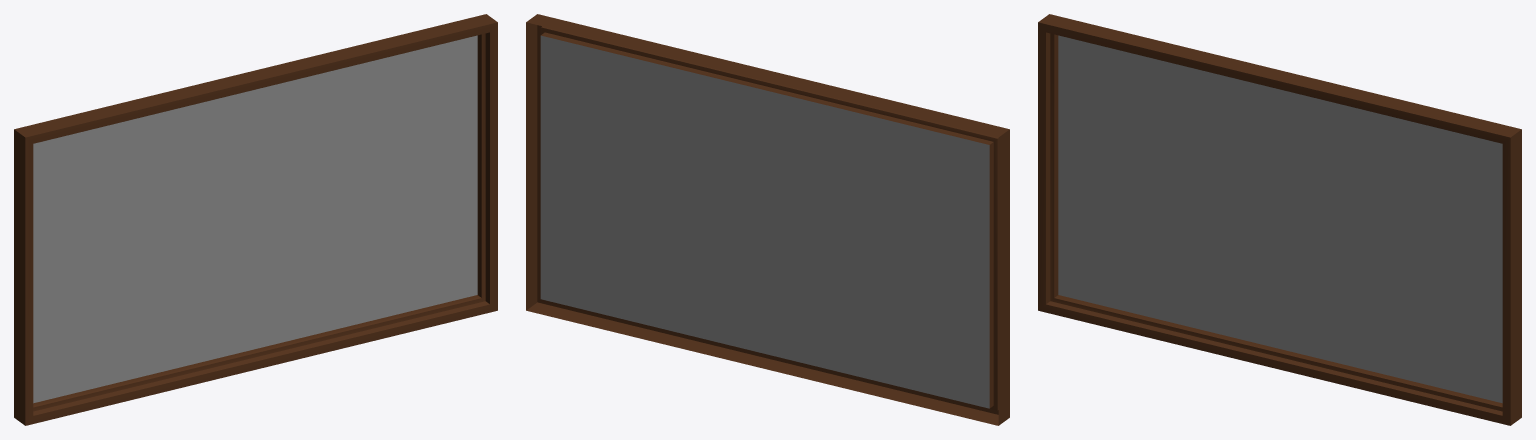
Rendered from painting.fbx.
3 renders of one model, left to right at view 1: azimuth 30°, elevation 25°; view 2: azimuth 150°, elevation 25°; view 3: azimuth 330°, elevation 25°, orthographic.
Visible parts, largest first — view 1: Box001; view 2: Box001; view 3: Box001.
Part boxes in pixels (x1,y1,x2,y2): Box001: [14, 14, 497, 425]; Box001: [526, 14, 1009, 425]; Box001: [1038, 14, 1521, 425].
Bounding box in the file's own units: 120 × 70 × 5.
